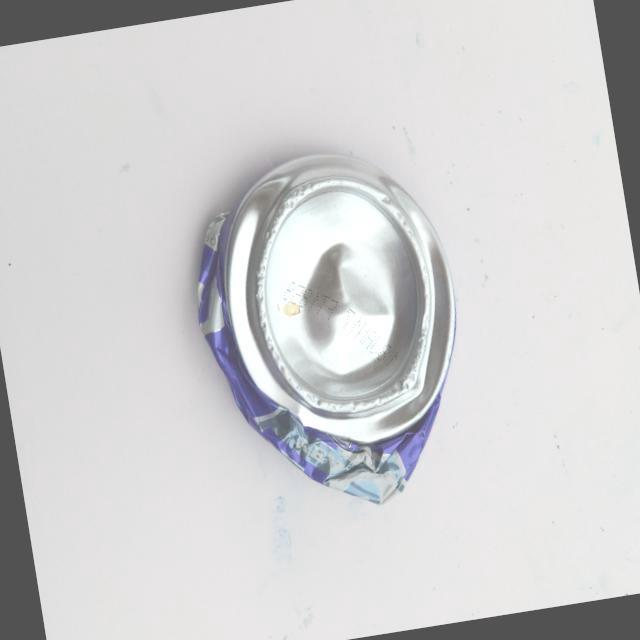metal: (152, 114, 494, 540)
